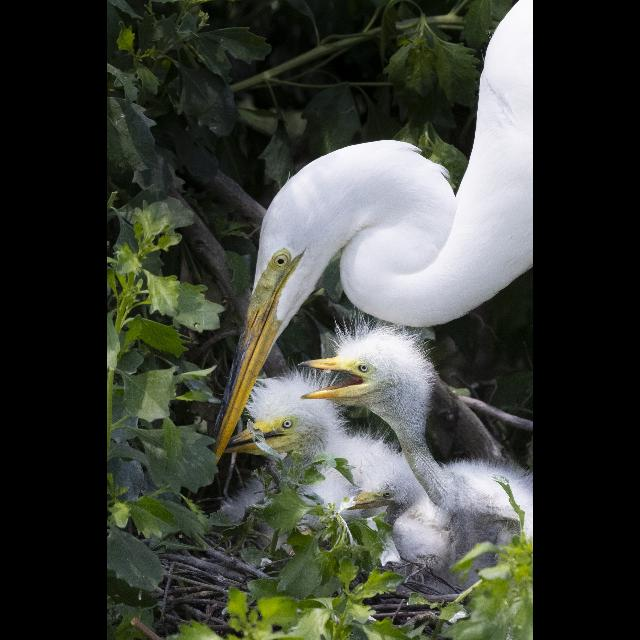egret: (202, 0, 534, 564)
